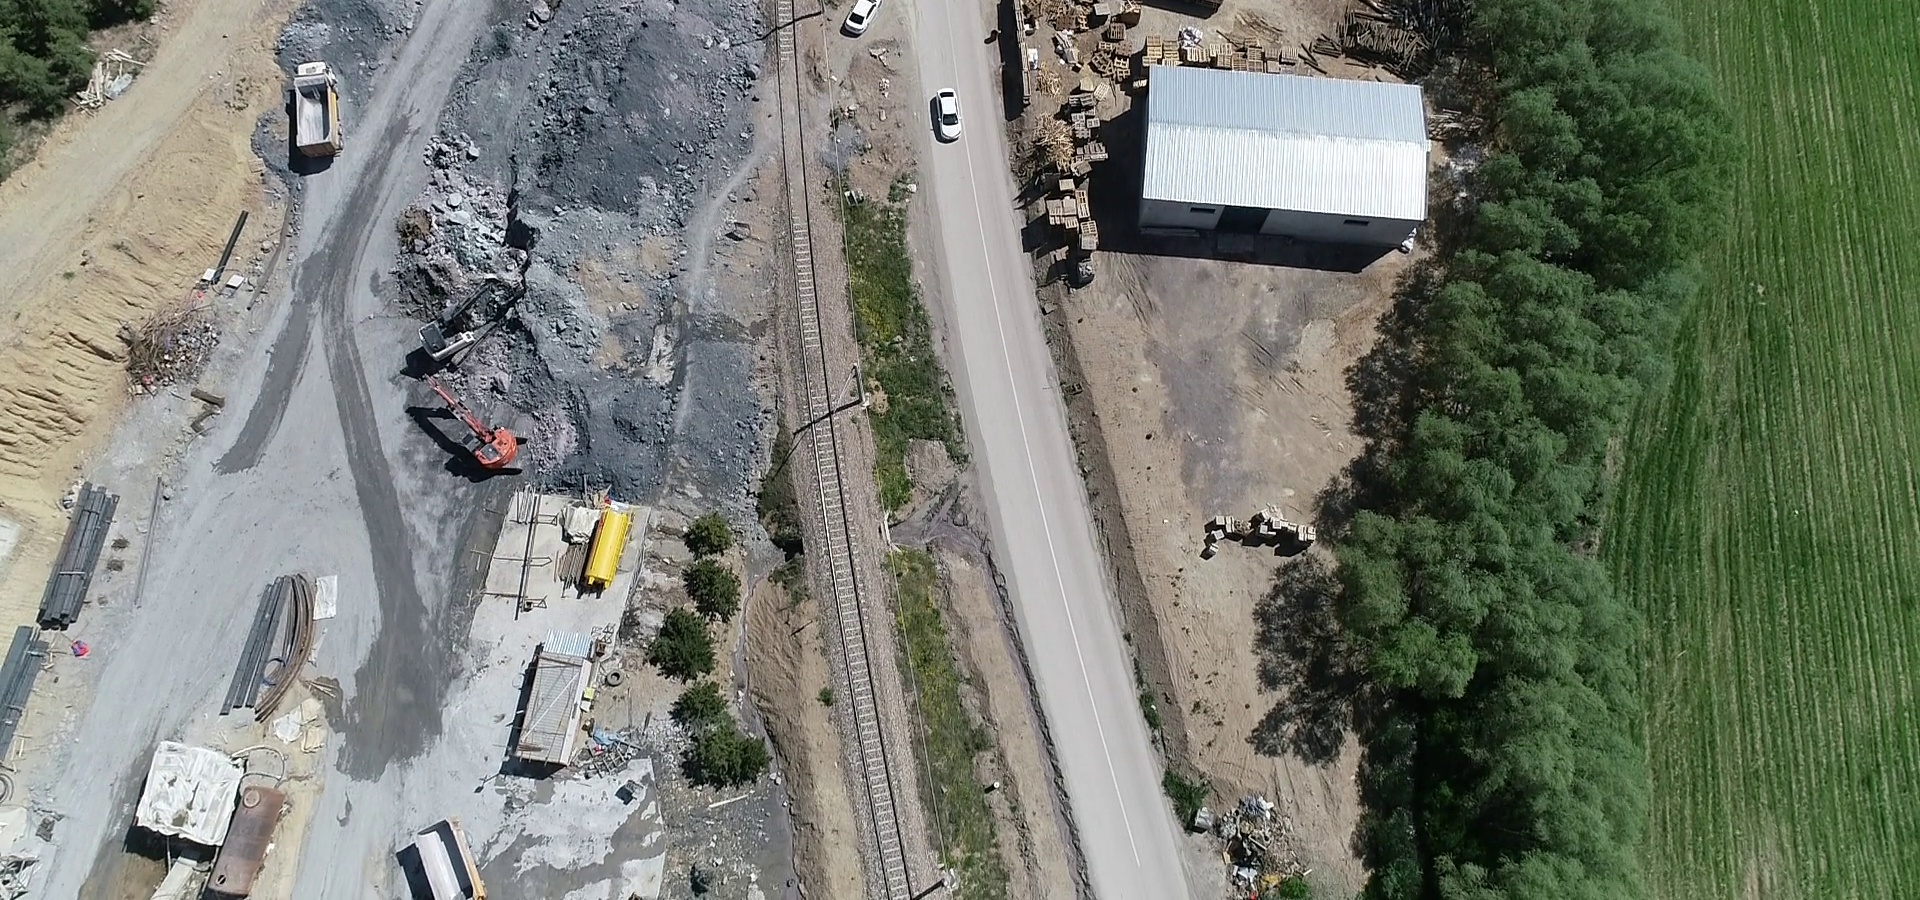araba: (921, 81, 973, 146), (838, 1, 889, 47)
ismakinesi: (421, 244, 558, 373), (416, 351, 522, 491)
kamyon: (400, 816, 500, 900), (285, 45, 353, 167)
